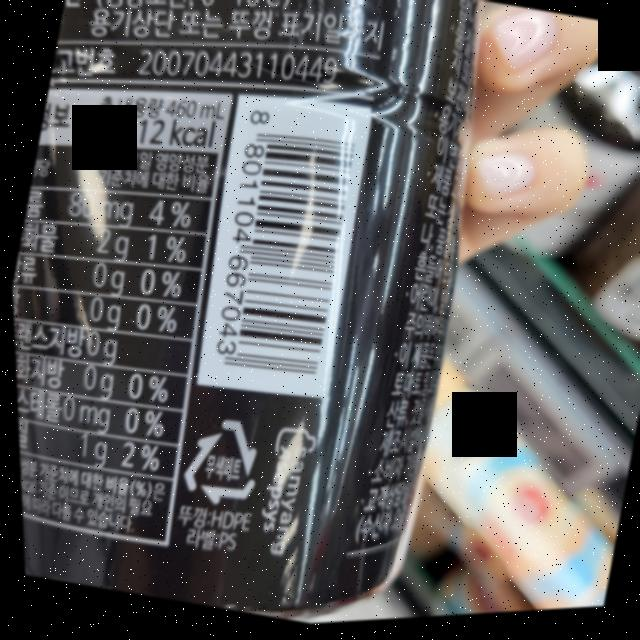ColorlessPET: (169, 405, 272, 521)
